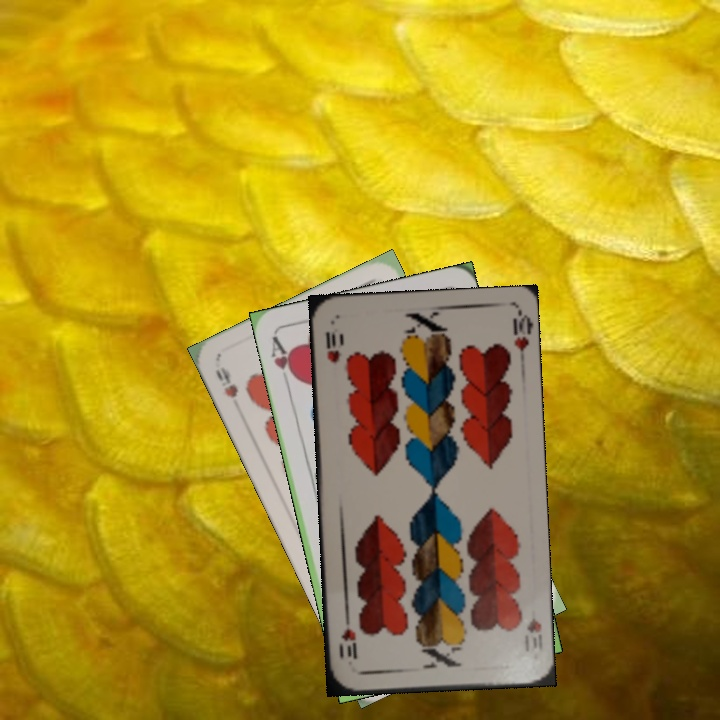H10: (321, 324, 345, 366), (523, 614, 545, 655)
H9: (211, 362, 241, 401)
HA: (267, 332, 300, 390)
